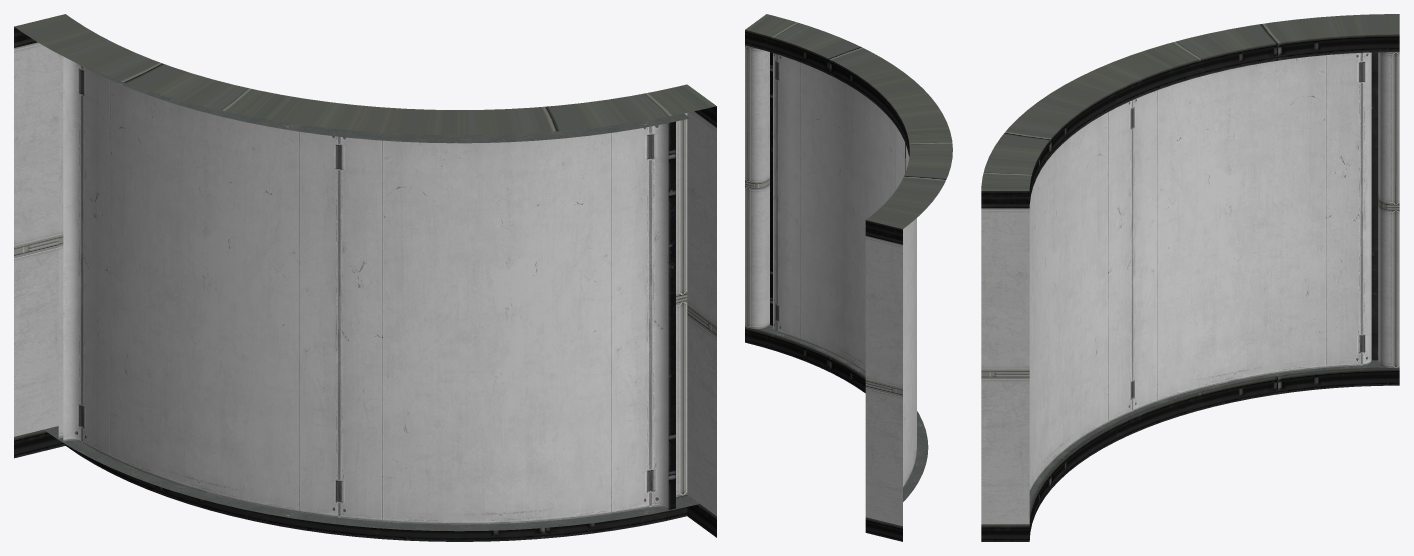
Rendered from Neon_Wall_6x4_Bend_01.FBX.
3 renders of one model, left to right at view 1: azimuth 30°, elevation 25°; view 2: azimuth 150°, elevation 25°; view 3: azimuth 270°, elevation 25°, orthographic. The views are drawn at different scales.
Visible parts, largest first — view 1: Neon_Wall_6x4_Bend_01; view 2: Neon_Wall_6x4_Bend_01; view 3: Neon_Wall_6x4_Bend_01.
Part boxes in pixels (x1,y1,x2,y2): Neon_Wall_6x4_Bend_01: [14, 14, 716, 541]; Neon_Wall_6x4_Bend_01: [745, 14, 952, 541]; Neon_Wall_6x4_Bend_01: [981, 14, 1399, 541].
Bounding box in the file's own units: 4.32 × 4 × 4.32.
